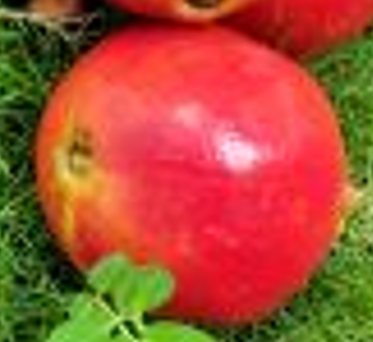pomegranate_A: (32, 18, 351, 328)
